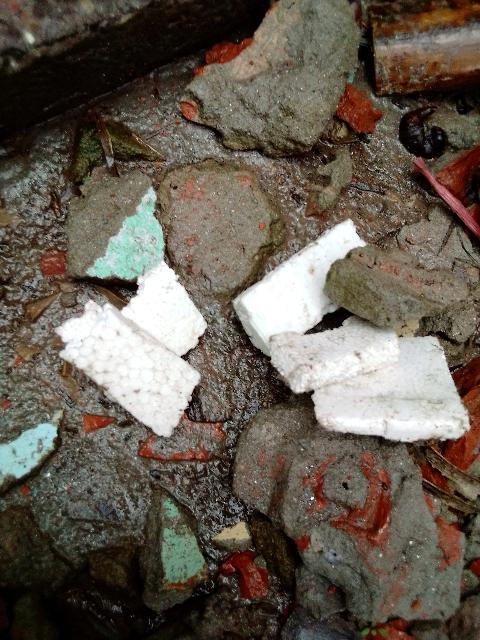cocksheet: (62, 210, 480, 466)
